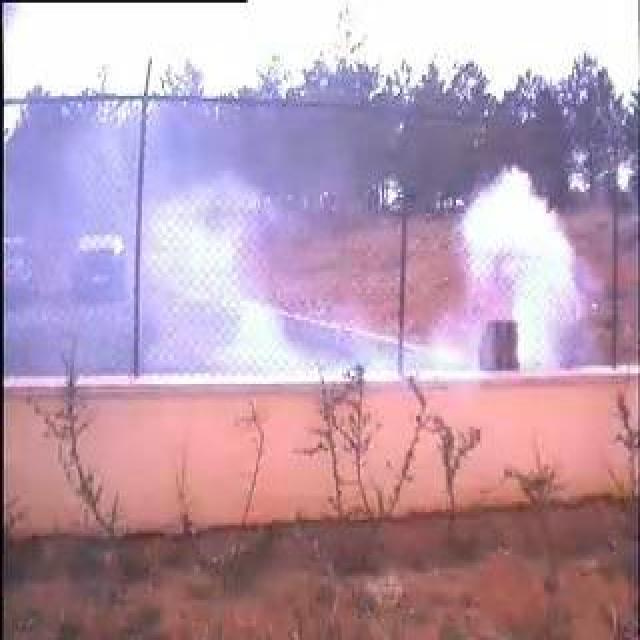Smoke: (121, 119, 575, 369)
